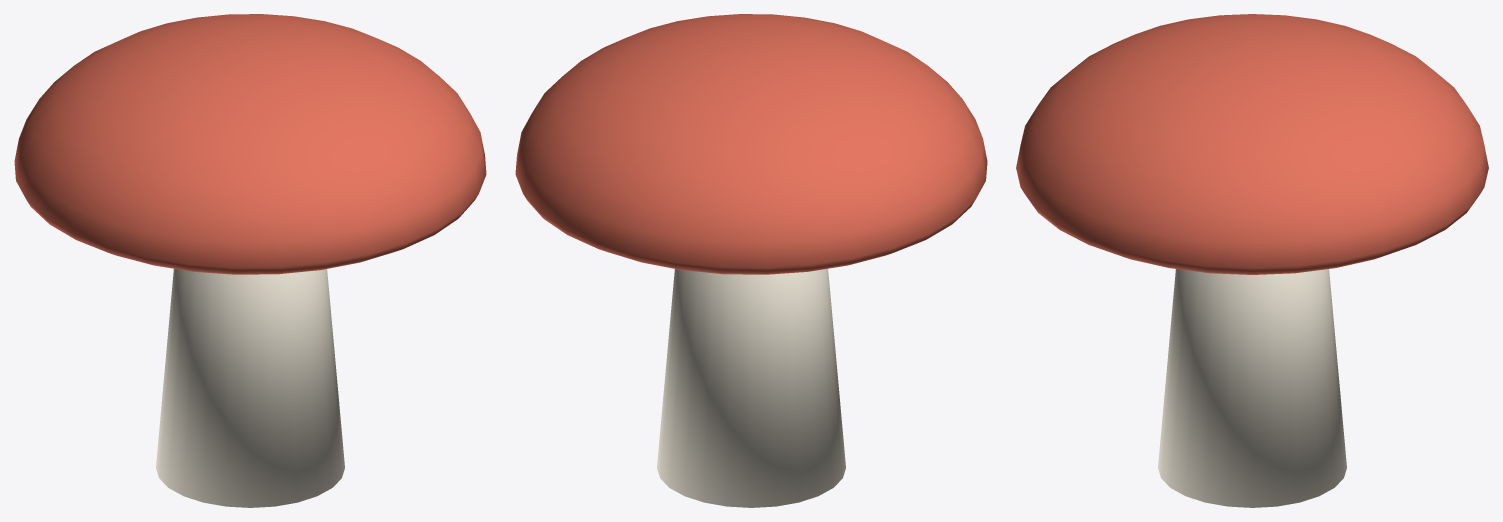
Rendered from zup-centimeters.fbx.
3 views of the same model, side by side, from view 1: azimuth 30°, elevation 25°; view 2: azimuth 150°, elevation 25°; view 3: azimuth 270°, elevation 25° (orthographic).
Visible parts, largest first — view 1: Mushroom; view 2: Mushroom; view 3: Mushroom.
Part boxes in pixels (left/top/right/bottom): Mushroom: left=14, top=14, right=486, bottom=507; Mushroom: left=515, top=14, right=987, bottom=507; Mushroom: left=1016, top=14, right=1488, bottom=507.
Bounding box in the file's own units: 15 × 15 × 14.62.
